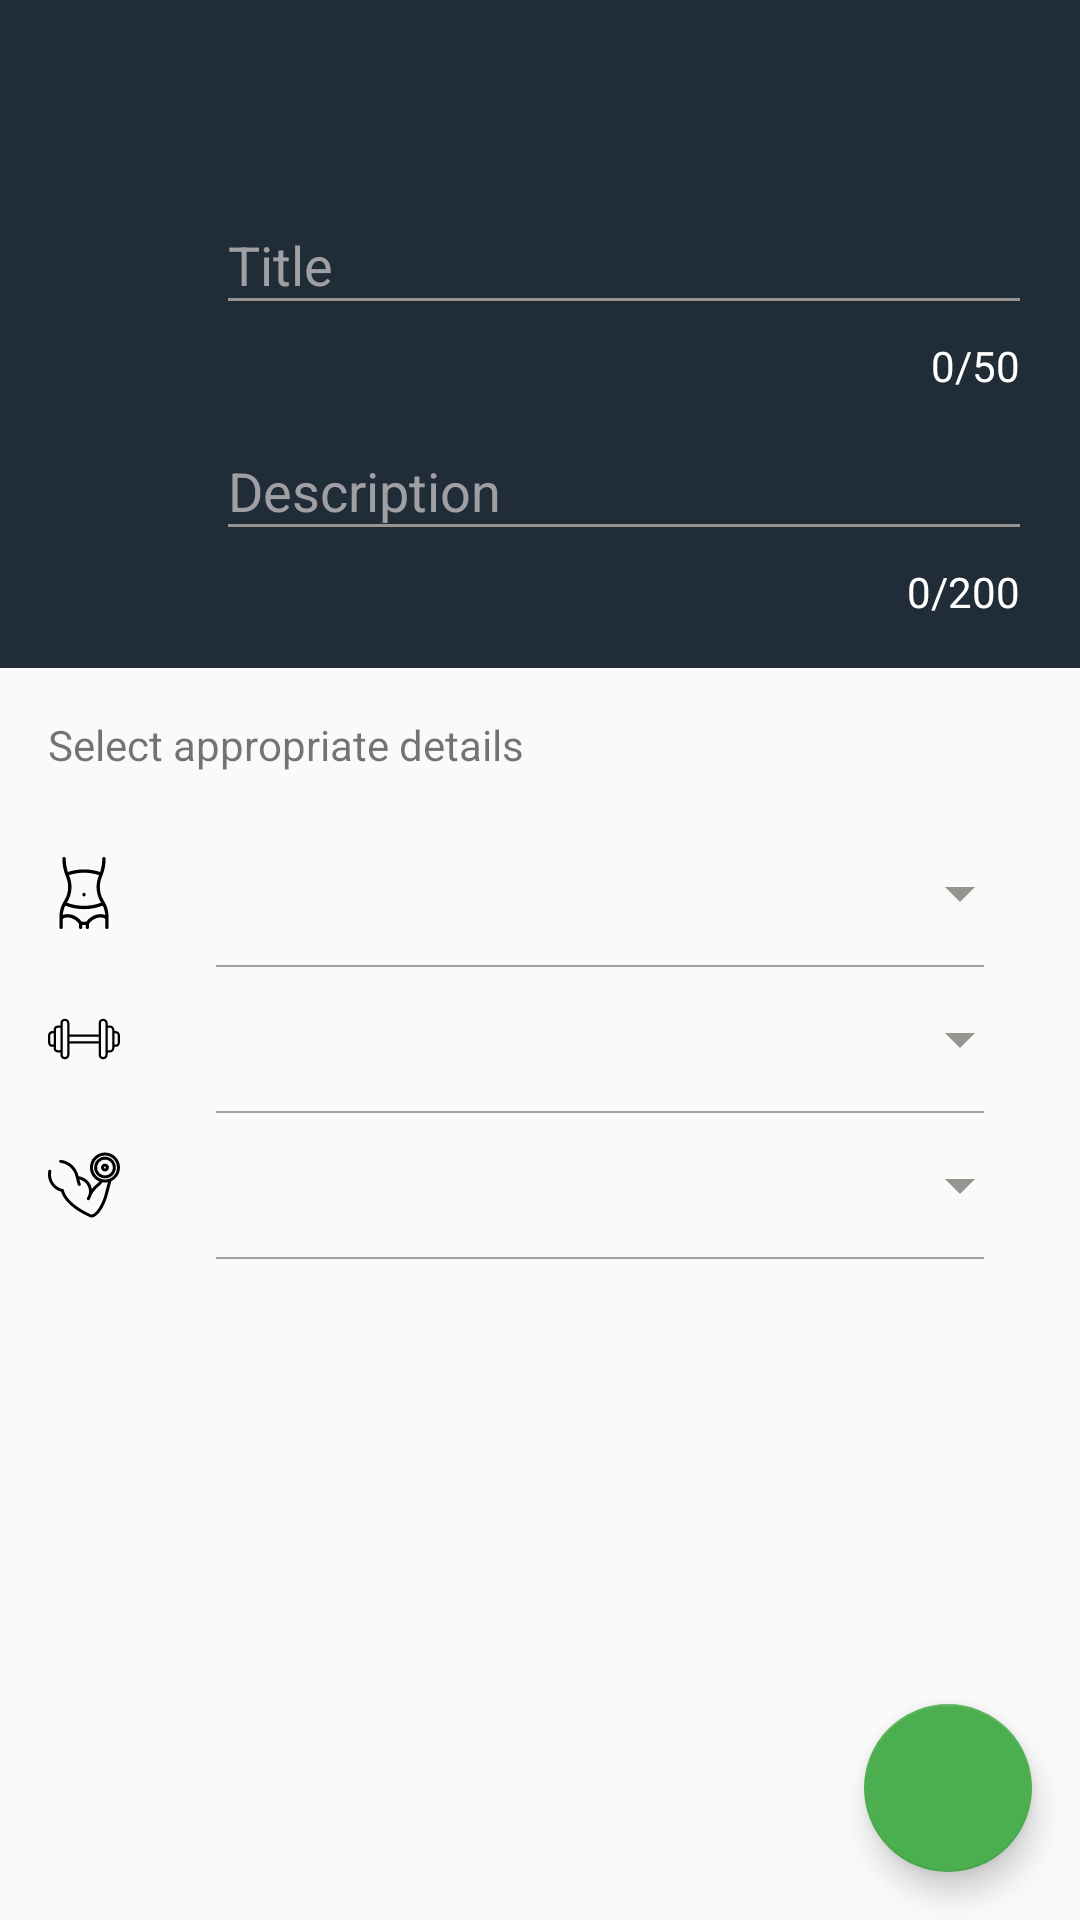

Icon click points for this 1080 × 1920 phone screenshot, format (x=x, y=y):
waist: (x=84, y=893)
